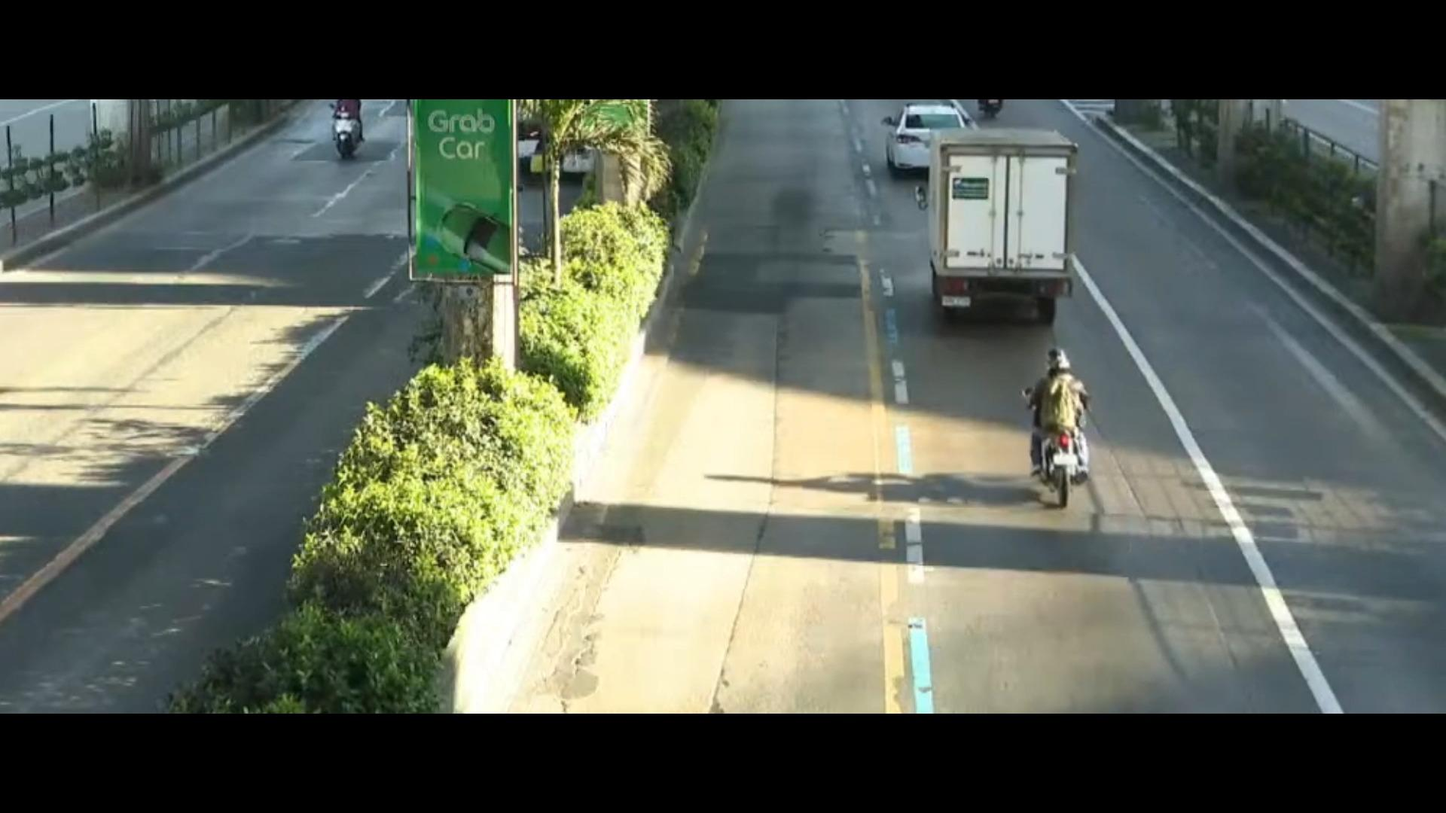Motorcycle: (1009, 339, 1135, 529), (317, 101, 380, 161)
Sedan: (874, 105, 977, 179)
Truck: (895, 111, 1105, 334)
